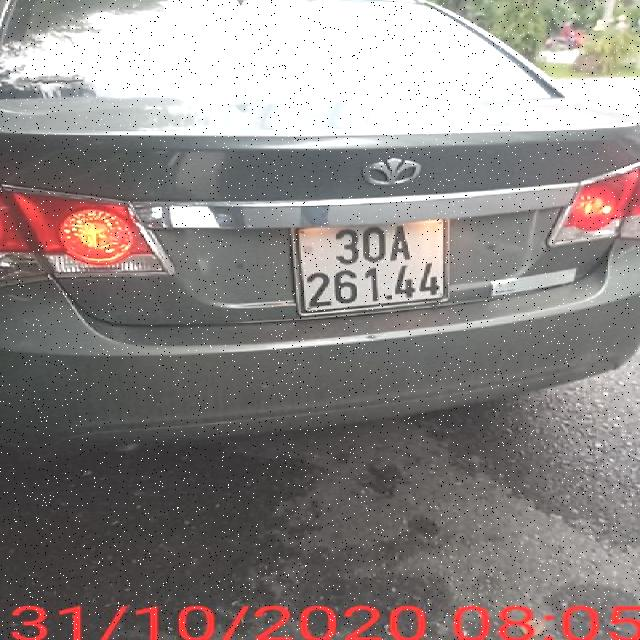0: (363, 225, 387, 265)
1: (363, 266, 383, 302)
2: (302, 272, 335, 308)
3: (334, 227, 361, 265)
4: (419, 262, 443, 298), (393, 265, 417, 299)
6: (334, 269, 360, 305)
A: (390, 224, 414, 262)
